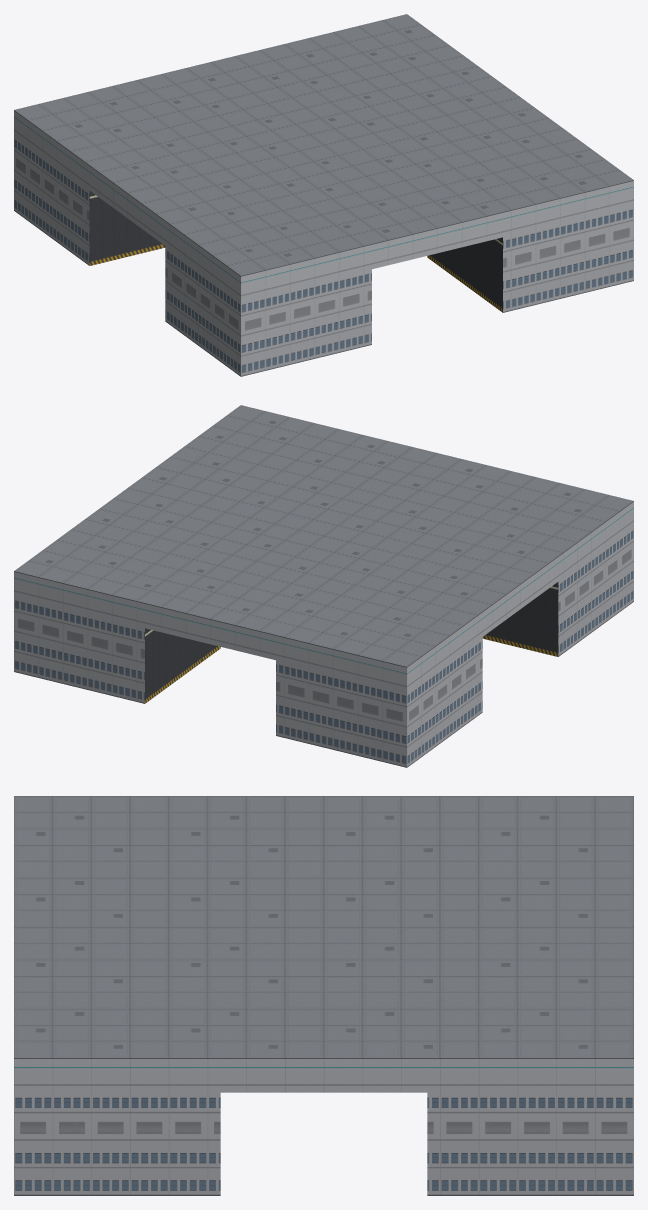
File: BLD_POD_Gate_X.fbx
The picture shows the model from 3 angles, top to bottom: view 1: azimuth 30°, elevation 25°; view 2: azimuth 150°, elevation 25°; view 3: azimuth 270°, elevation 25°; orthographic projection. The views are drawn at different scales.
Parts seen in each view (by area): view 1: BLD_POD_Gate_X; view 2: BLD_POD_Gate_X; view 3: BLD_POD_Gate_X.
Boxes of the visible parts, box(x1,y1,x2,y2) form: BLD_POD_Gate_X: box(14, 14, 633, 376); BLD_POD_Gate_X: box(14, 405, 633, 767); BLD_POD_Gate_X: box(14, 796, 633, 1195).
Size of the model in its own units: 100 by 24.5 by 100.
